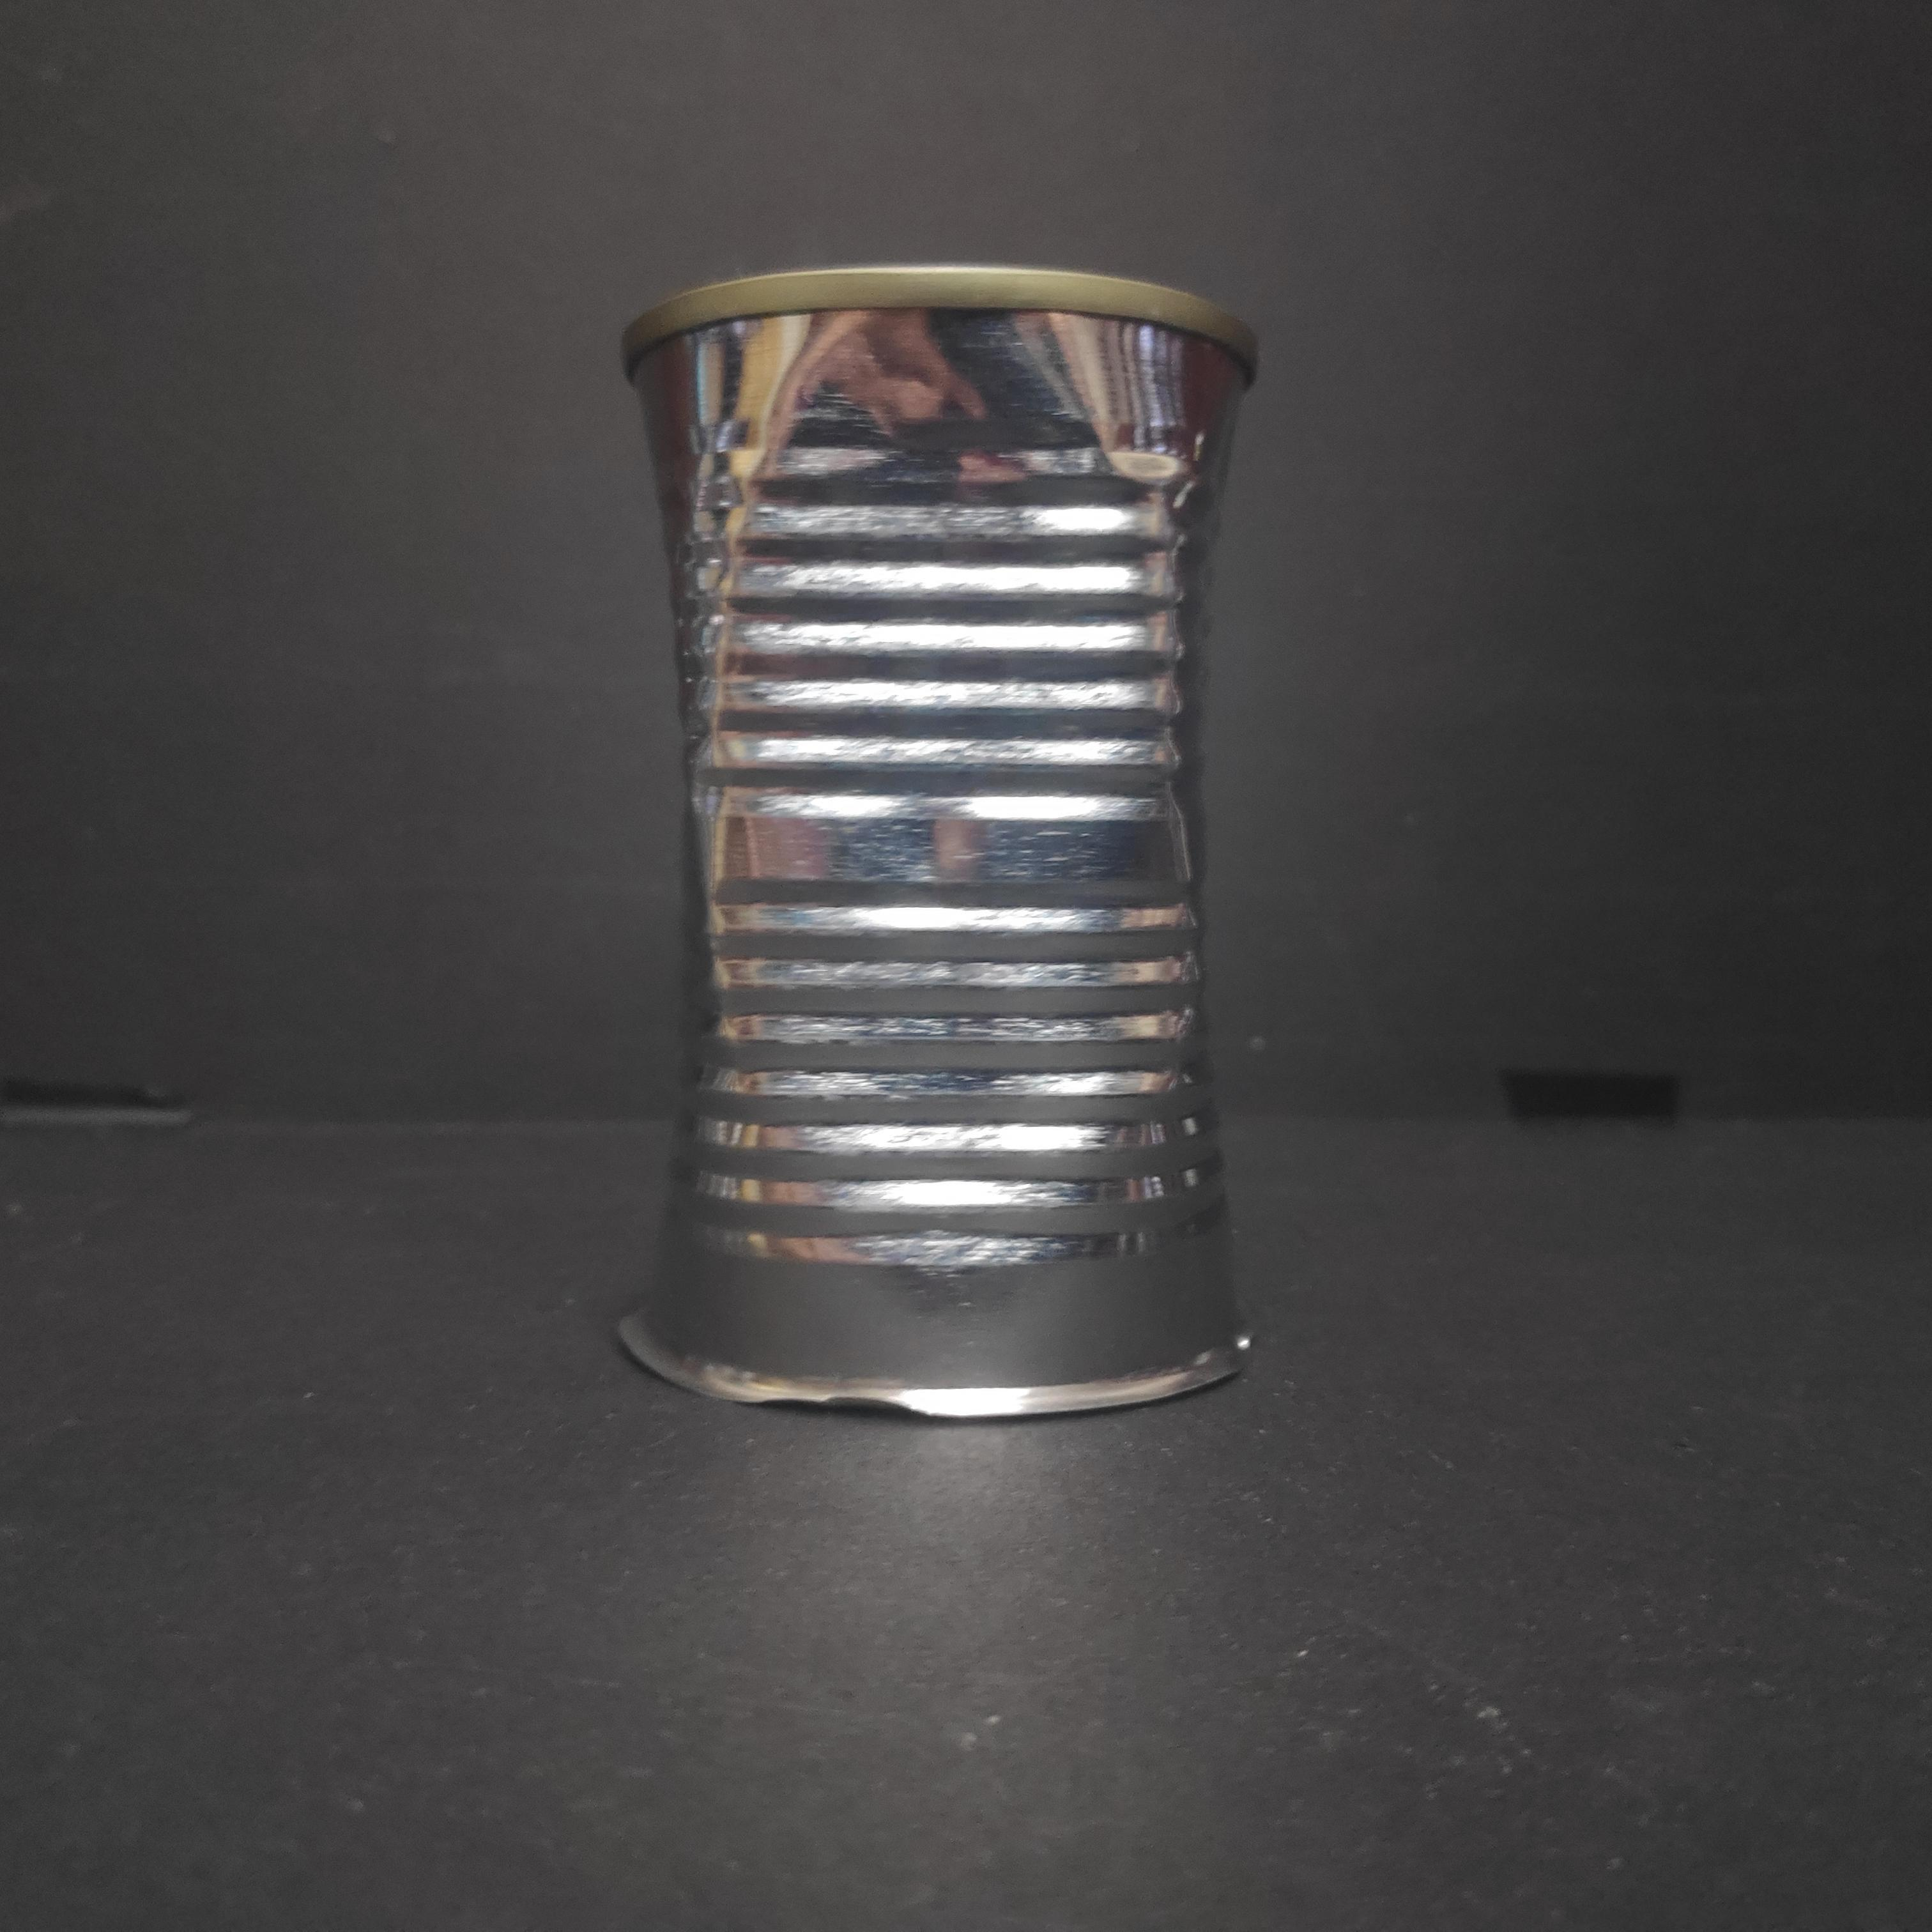Dented: (603, 249, 1288, 1460)
